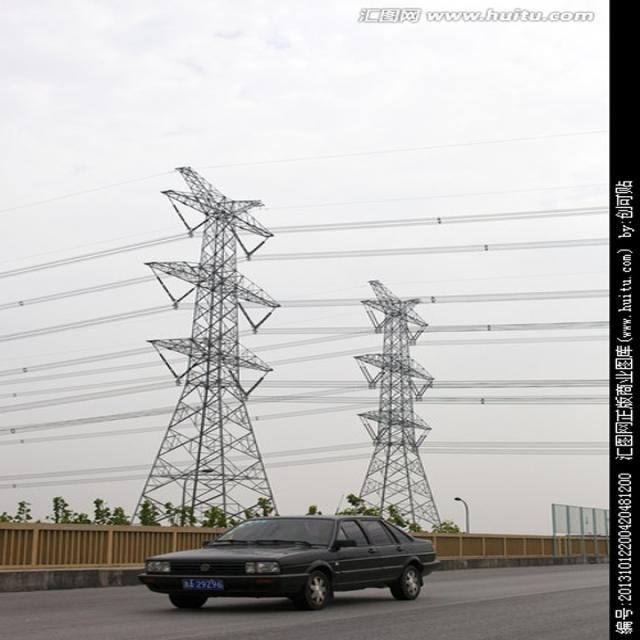non-critical vegetation: (122, 147, 281, 507), (347, 258, 464, 517)
